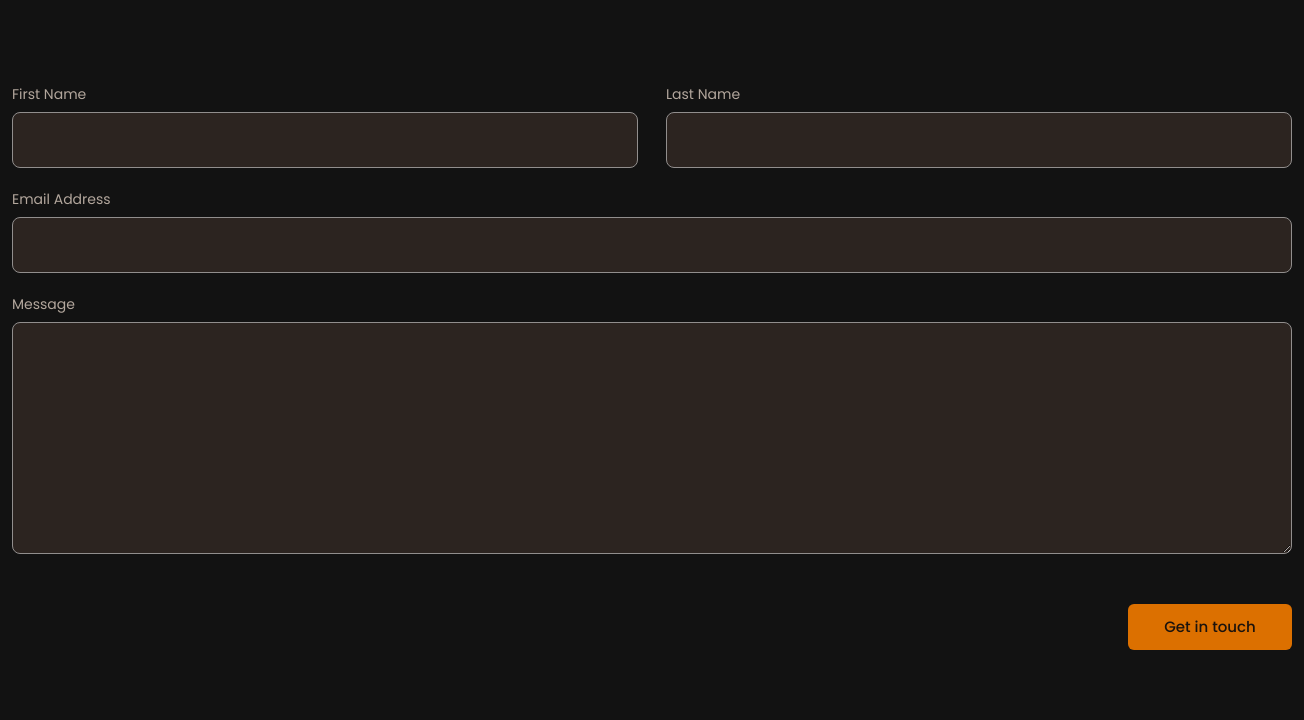
Test: ContactForm › is honest in demo mode (no backend)
Type "Ada" into the field labelled "First Name".
click(325, 140); type("Ada")  # box [12,112,638,168]
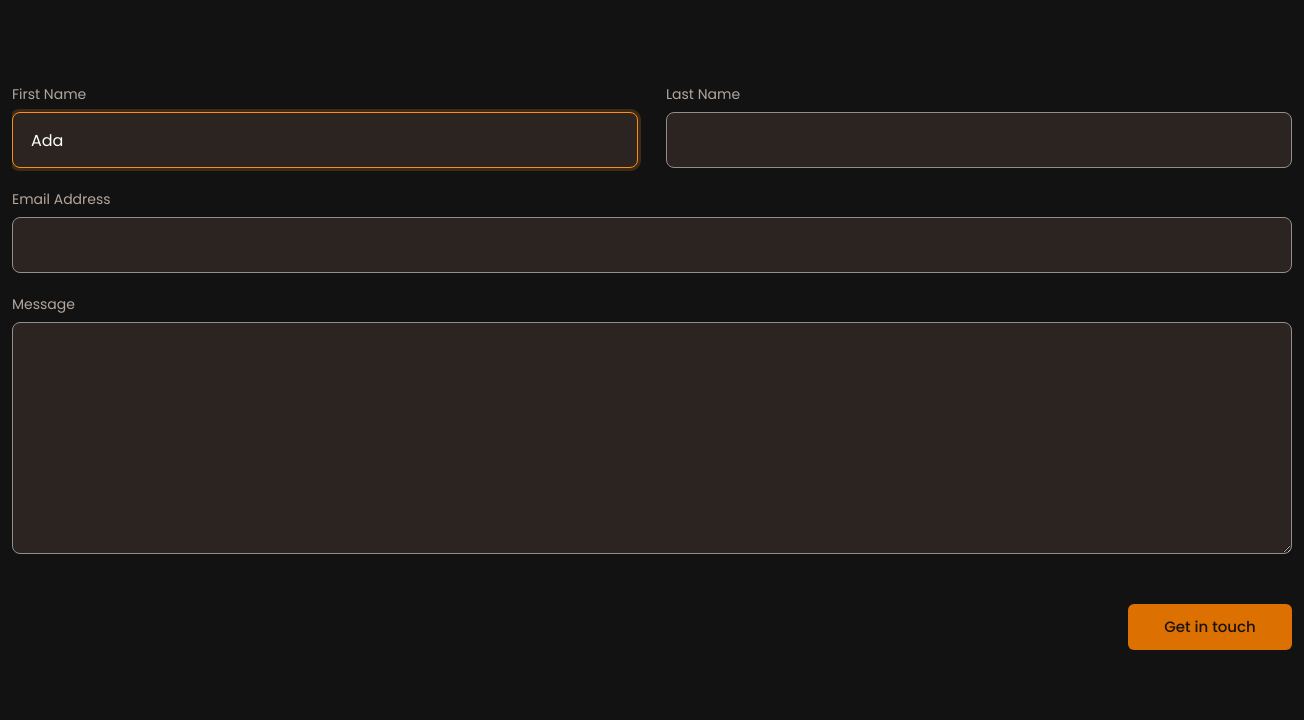
Type "Lovelace" into the field labelled "Last Name".
click(979, 140); type("Lovelace")  # box [666,112,1292,168]
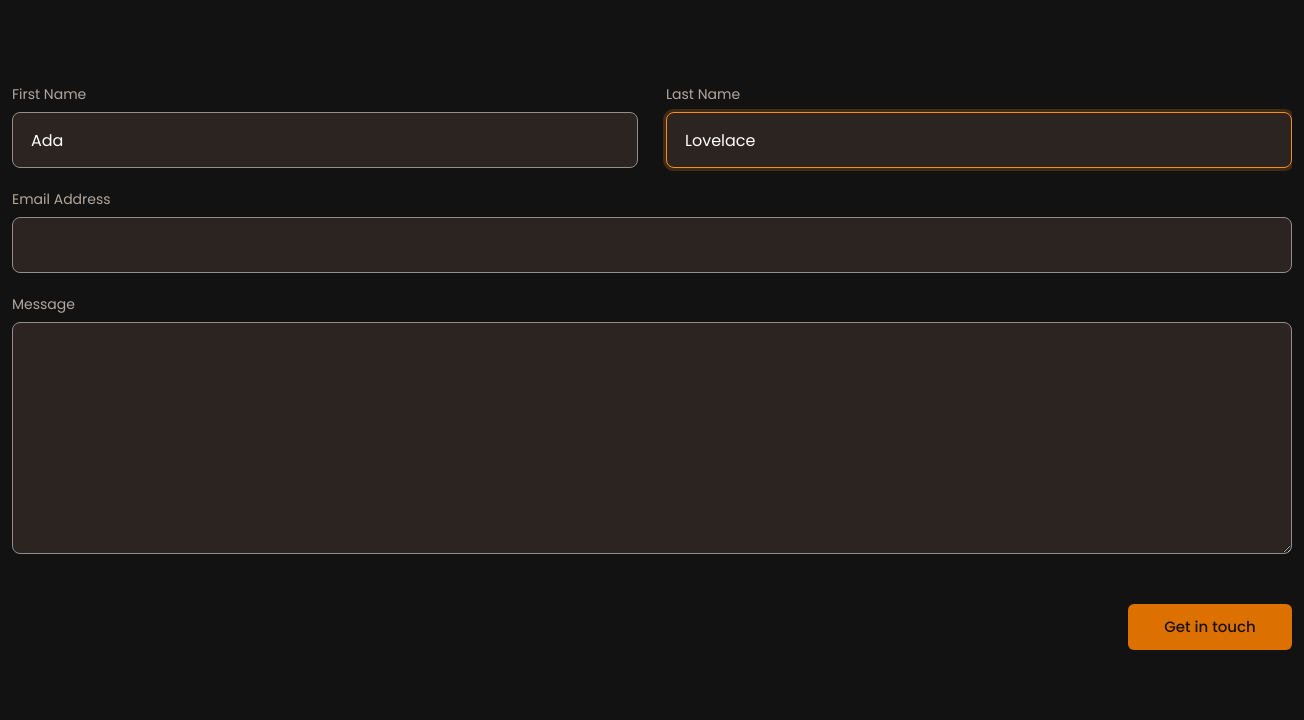
Type "ada@example.com" into the field labelled "Email Address".
click(652, 245); type("ada@example.com")  # box [12,217,1292,273]
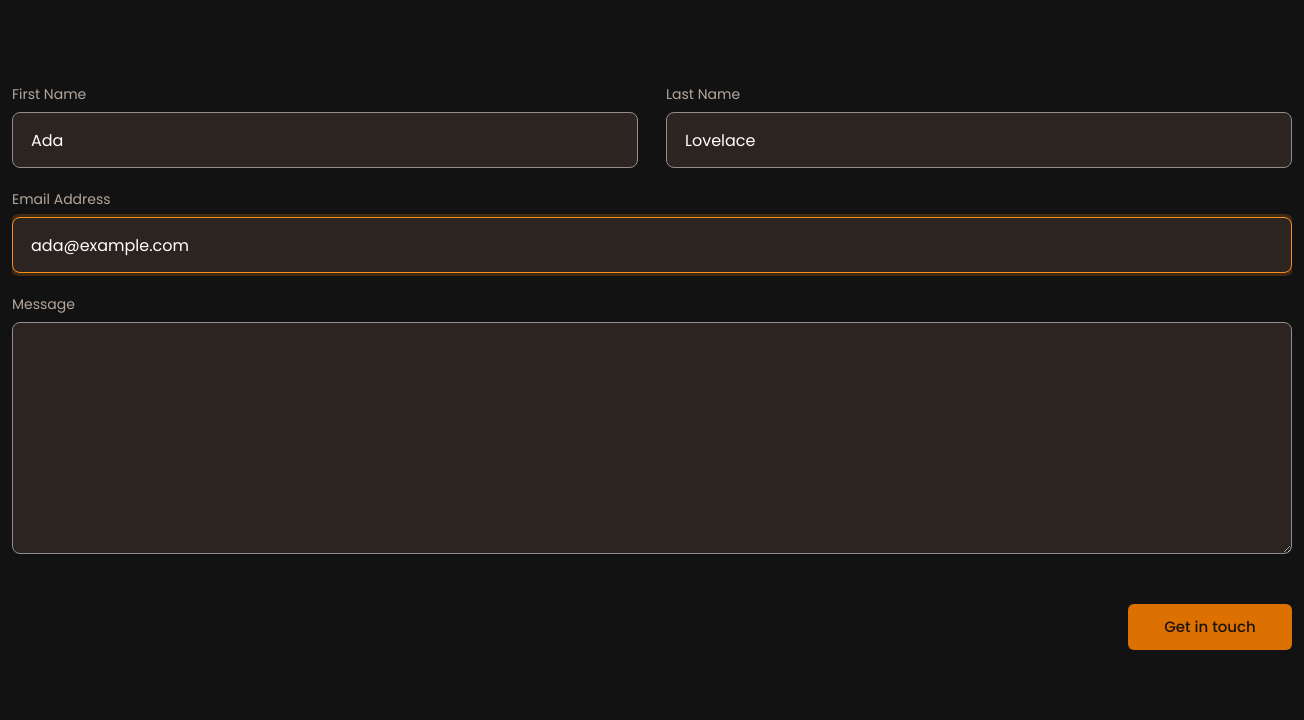
Type "Hello, I would like to talk about a project." into the text box labelled "Message".
click(652, 438); type("Hello, I would like to talk about a project.")  # box [12,322,1292,554]
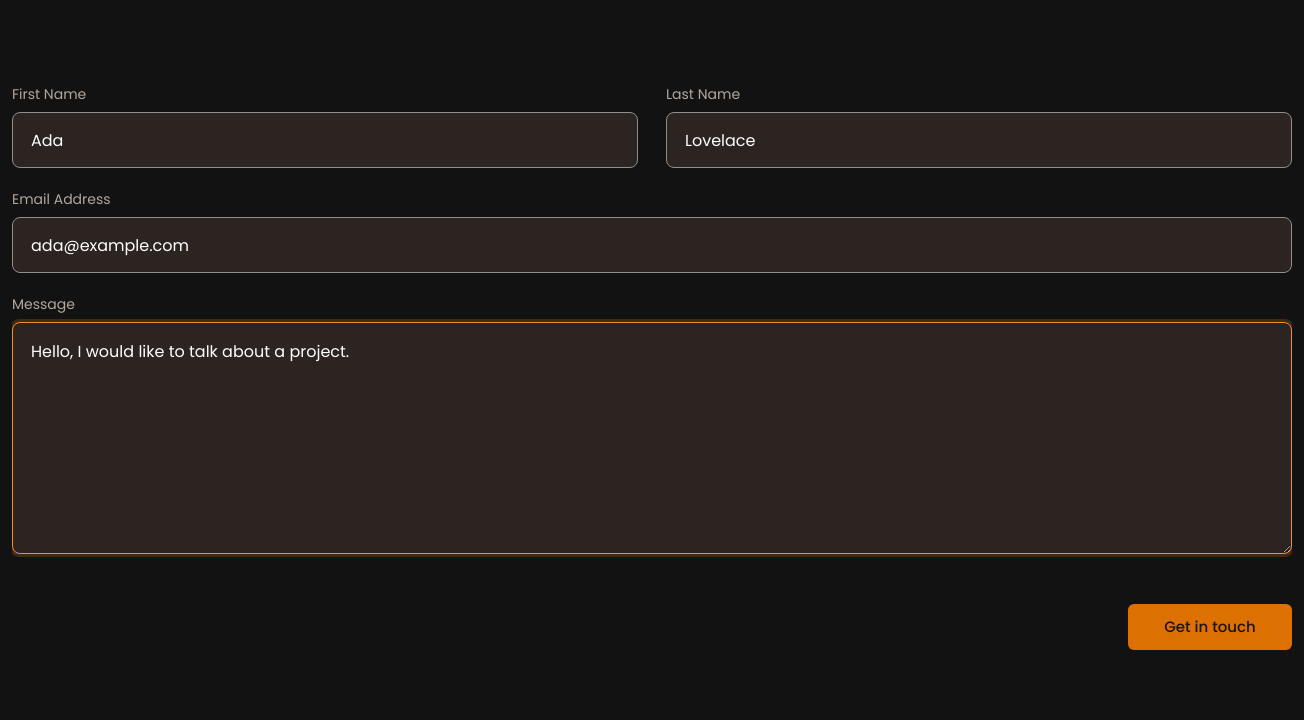
Click the button "Get in touch".
click(1210, 627)  # box [1128,604,1292,650]
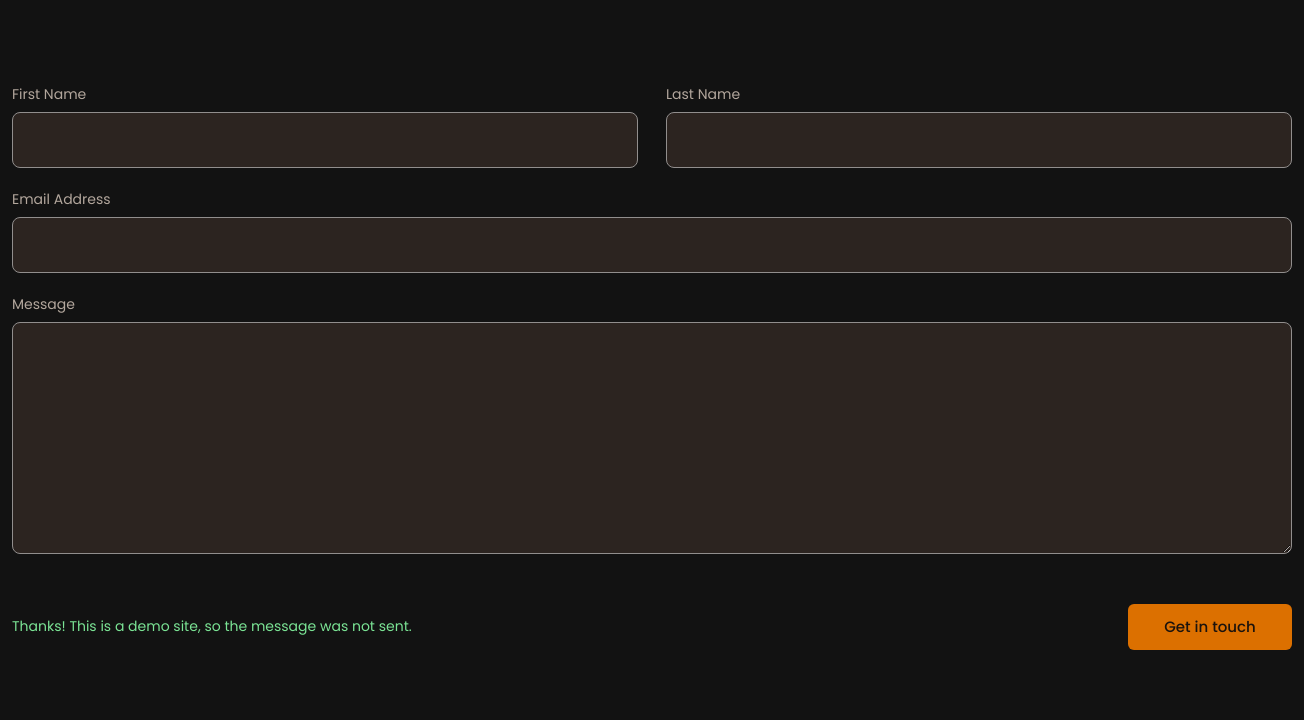
Expected: the message shows "demo site", [12,616,412,636]
